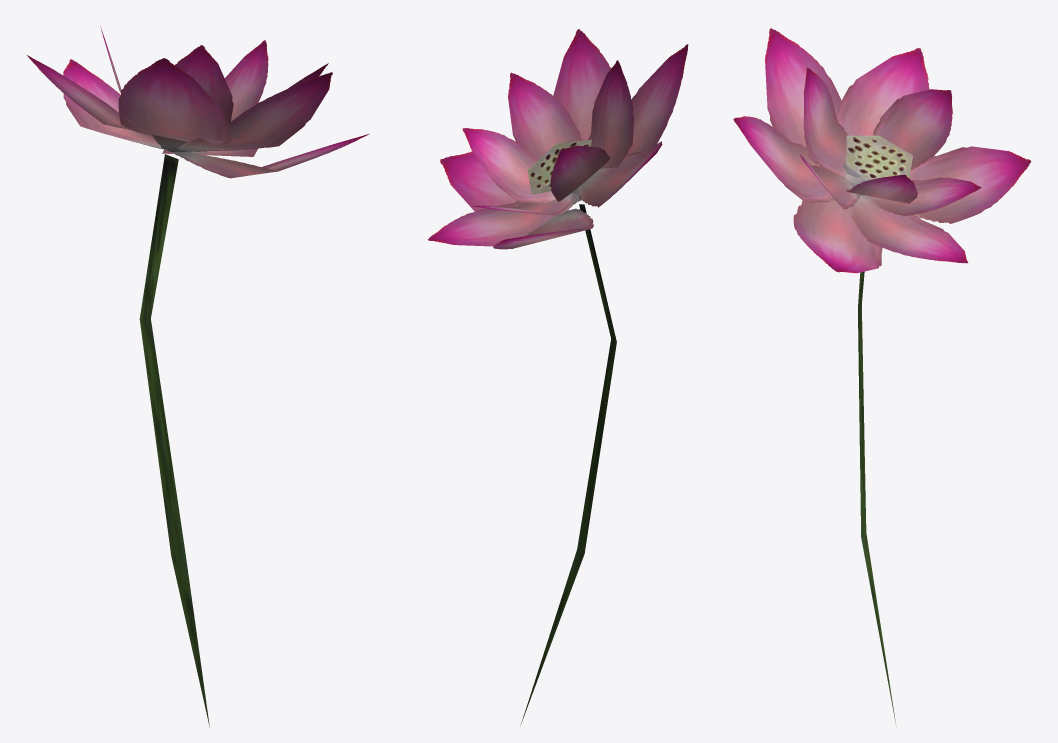
File: yw_yanziwu_hehua03.FBX
3 renders of one model, left to right at view 1: azimuth 30°, elevation 25°; view 2: azimuth 150°, elevation 25°; view 3: azimuth 270°, elevation 25°, orthographic. The views are drawn at different scales.
Parts seen in each view (by area): view 1: yw_yanziwu_hehua03; view 2: yw_yanziwu_hehua03; view 3: yw_yanziwu_hehua03.
Part boxes in pixels (x1,y1,x2,y2): yw_yanziwu_hehua03: (27,26,369,727); yw_yanziwu_hehua03: (427,29,688,725); yw_yanziwu_hehua03: (733,28,1031,725).
Size of the model in its own units: 73.46 by 168 by 73.3.
